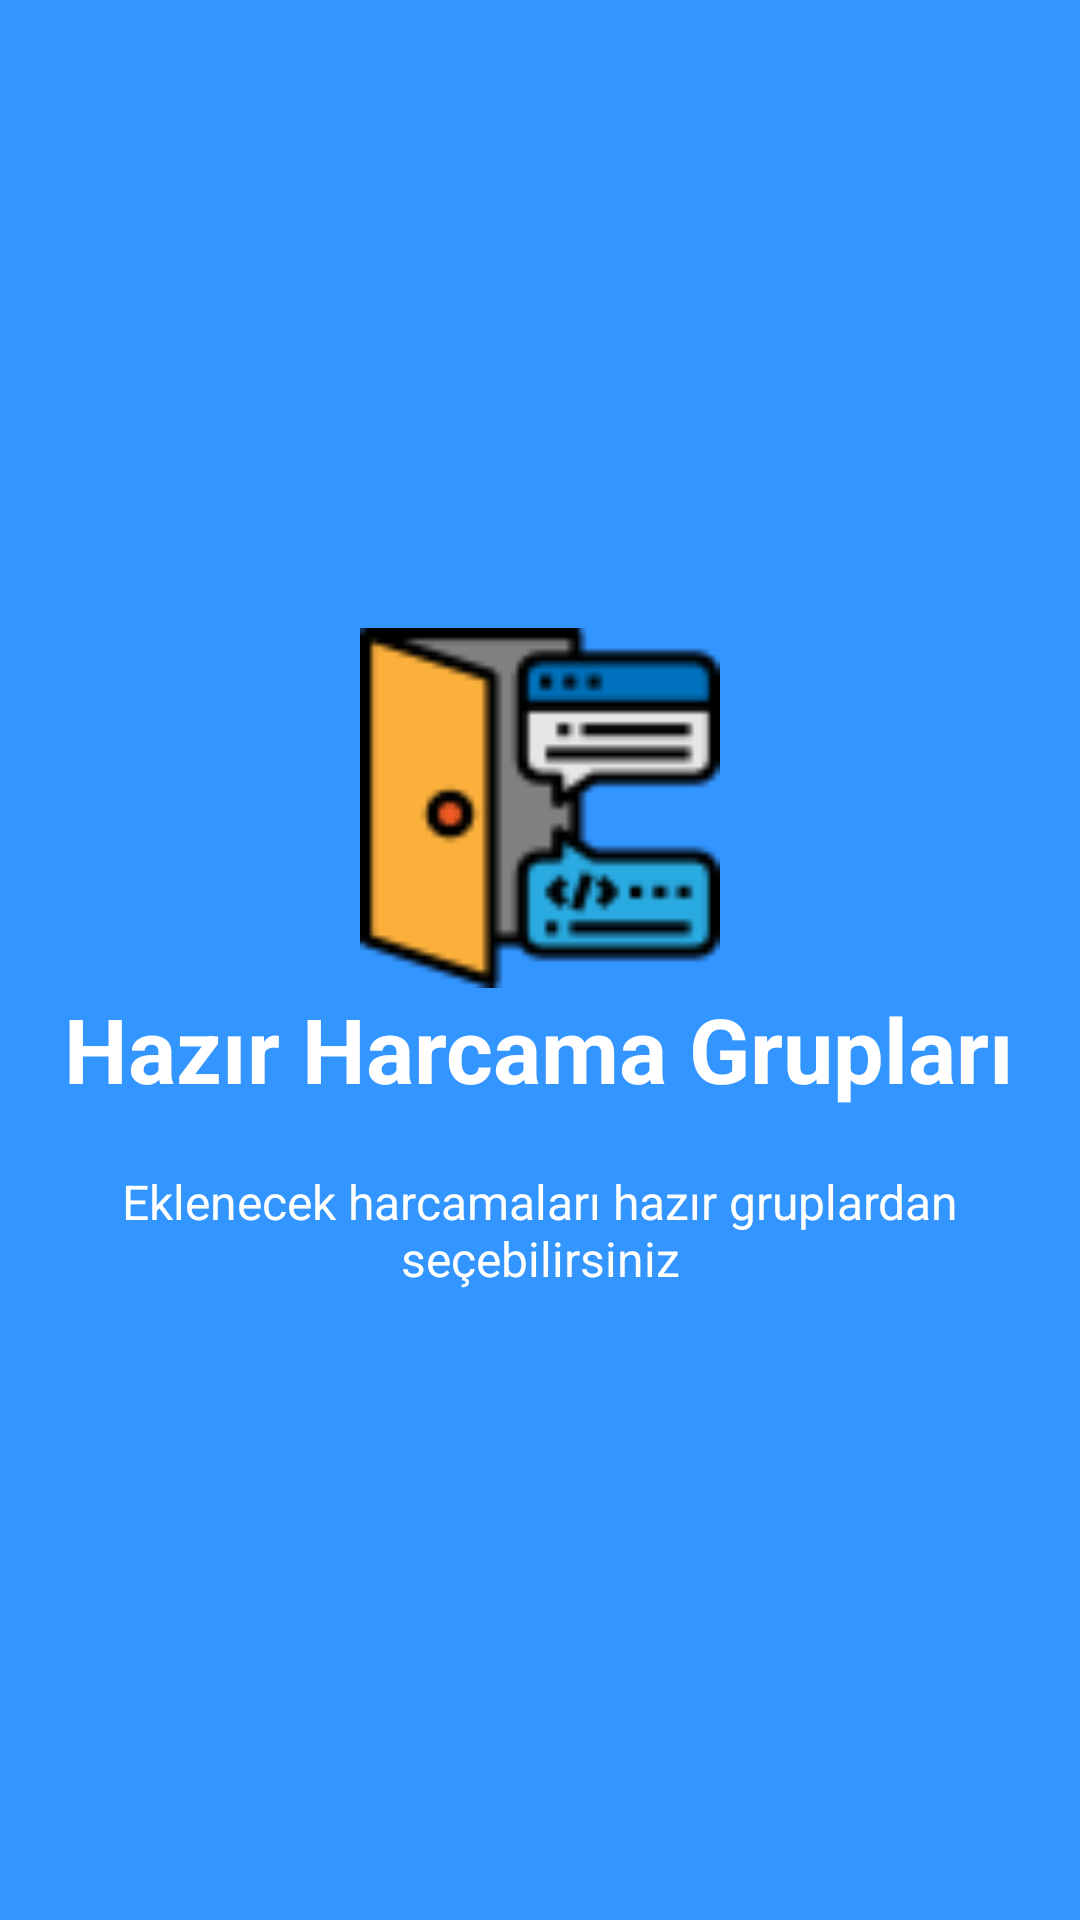

Where icons sit on this 1080x1920 app screen, as (left=x1, top=y1, right=x2, bottom=y2):
backend: (left=360, top=628, right=720, bottom=988)
